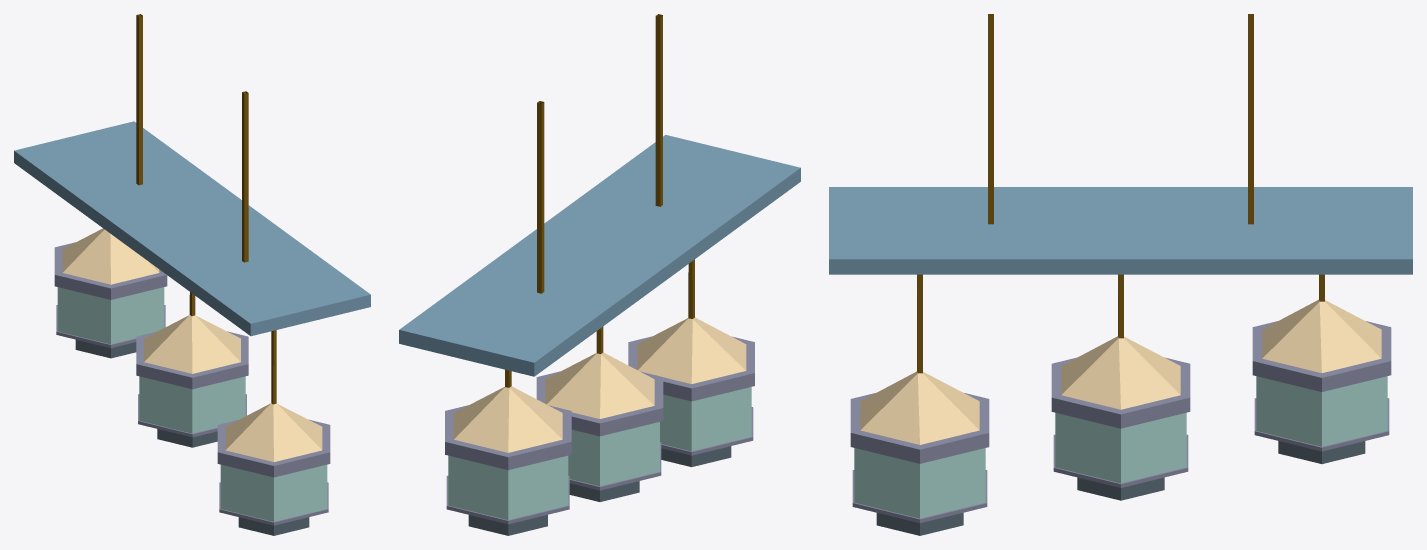
File: Ceiling_Ornament_ThreePiece.fbx
3 views of the same model, side by side, from view 1: azimuth 30°, elevation 25°; view 2: azimuth 150°, elevation 25°; view 3: azimuth 270°, elevation 25° (orthographic). The views are drawn at different scales.
Visible parts, largest first — view 1: Lamp_Fixture; view 2: Lamp_Fixture; view 3: Lamp_Fixture.
Part boxes in pixels (left/top/right/bottom): Lamp_Fixture: left=14, top=14, right=370, bottom=535; Lamp_Fixture: left=399, top=14, right=800, bottom=535; Lamp_Fixture: left=829, top=14, right=1412, bottom=535.
Size of the model in its own units: 54.48 by 176 by 186.
